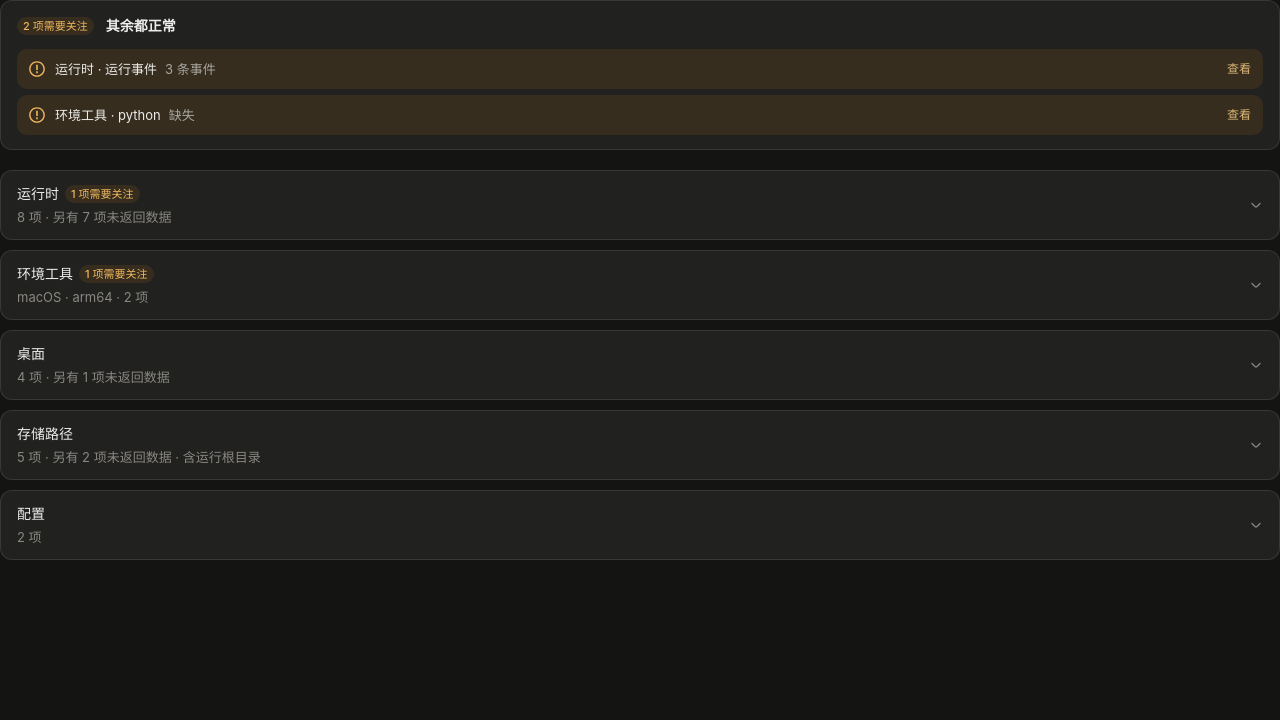
Scenario: 诊断 › keeps the runtime root in 存储路径, path by path
The width and height of the screenshot is (1280, 720).
What coordinates should you click on to do the following:
click the button with class "head-text" that starts with "存储路径"
I would click on:
 (45, 434)
Its box is [17,423,1237,467].
(page scrolled)
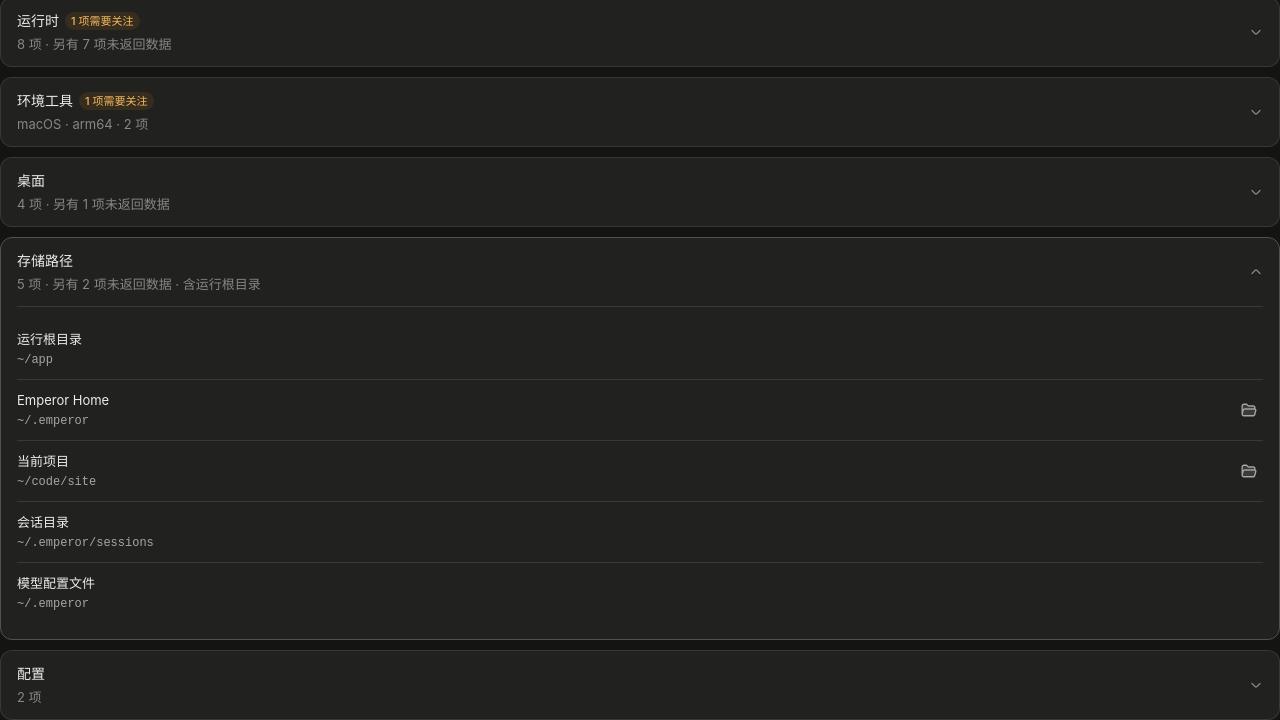
expect the element showing "运行根目录 ~/app" is shown: met, box [17,319,1263,380]
expect the text "~/app" is shown: met, box [17,353,53,367]
expect the text "~/.emperor/sessions" is shown: met, box [17,536,154,550]
